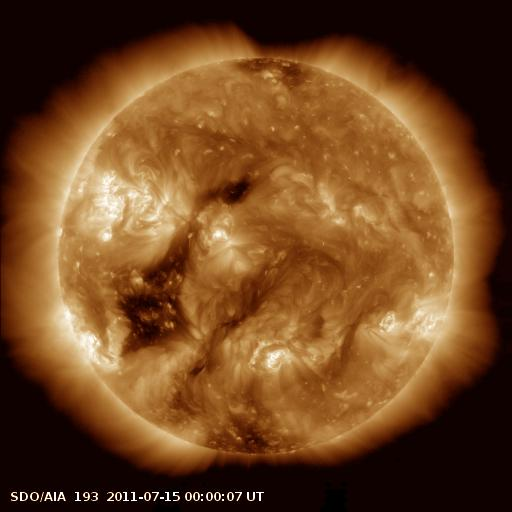coronal_hole: (113, 214, 203, 358), (203, 382, 306, 456), (193, 172, 264, 218), (238, 51, 314, 88)
